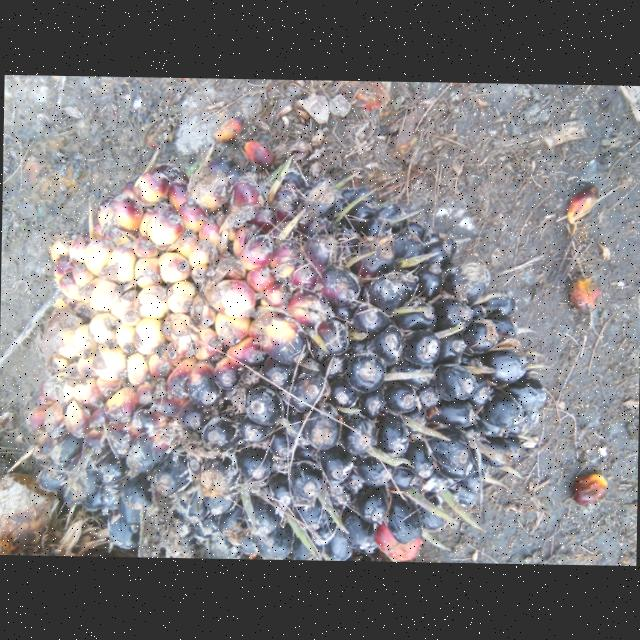Unripe: (25, 157, 545, 560)
